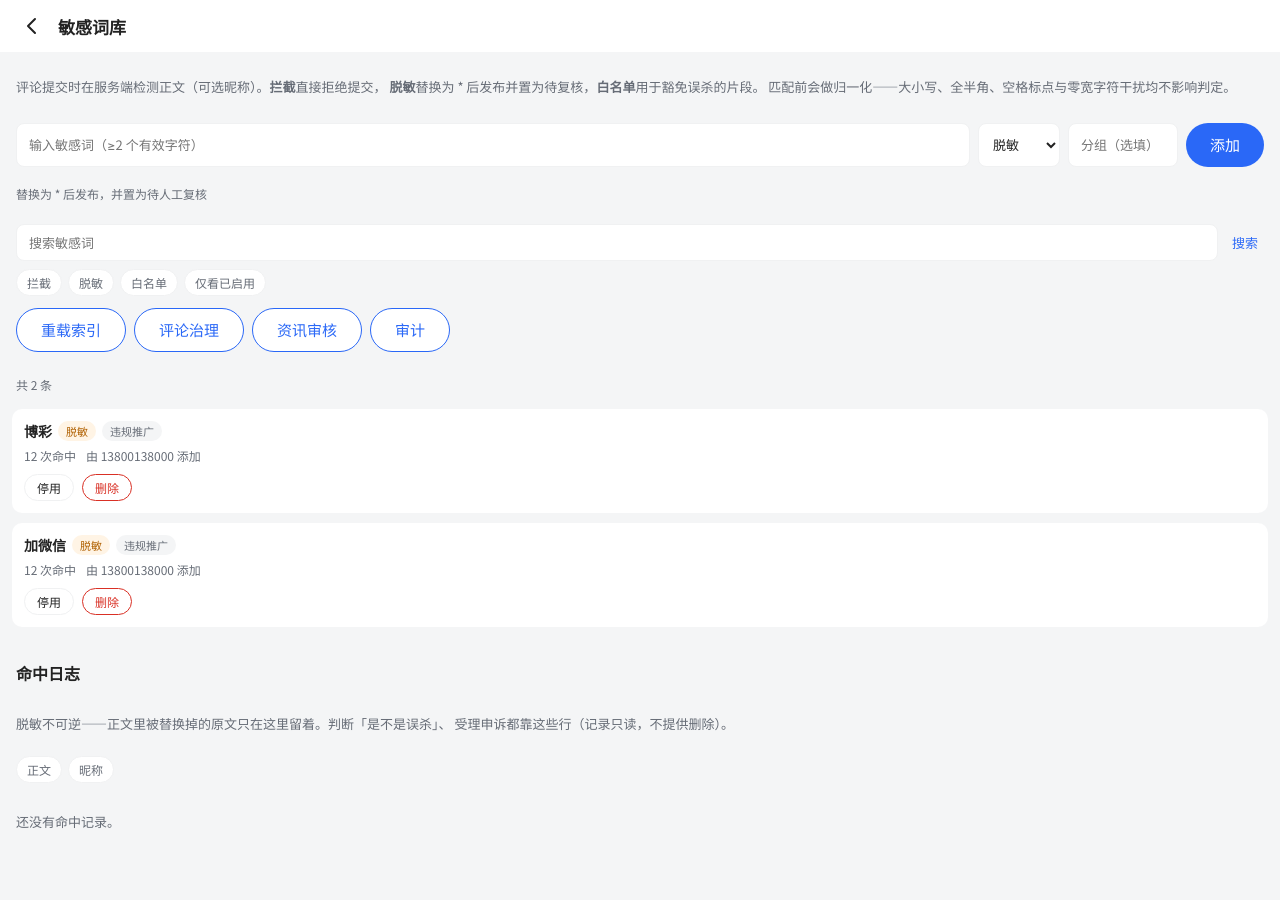
Test case: views/AdminWords 新增与维护 › 删除要二次确认，确认后从列表移除
What coordinates should you click on to do the following:
click the button "删除" below "博彩"
I would click on:
 (107, 487)
Its box is [82, 474, 132, 501].
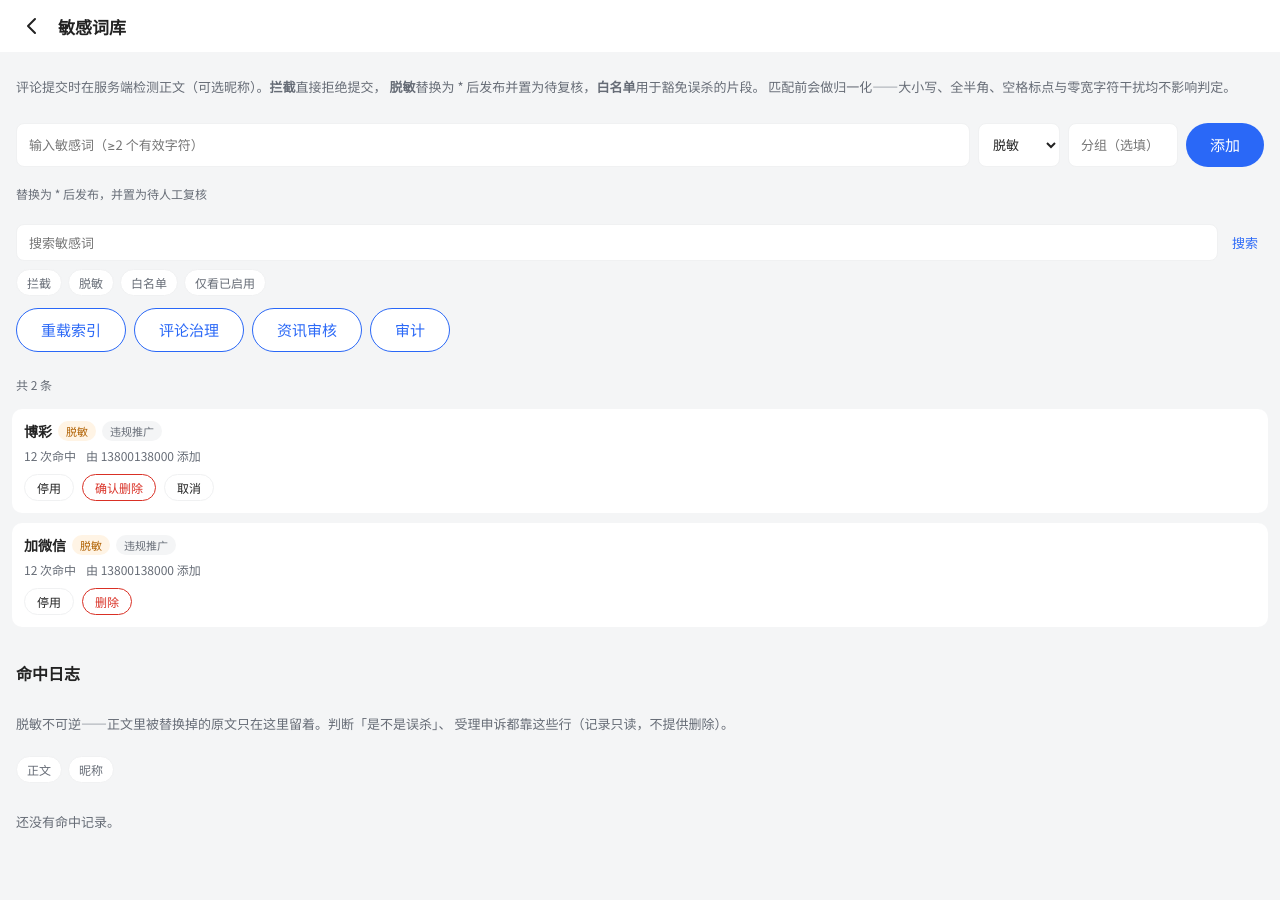
What coordinates should you click on to do the following:
click the button "确认删除"
I would click on:
 (119, 487)
Its box is [82, 474, 156, 501].
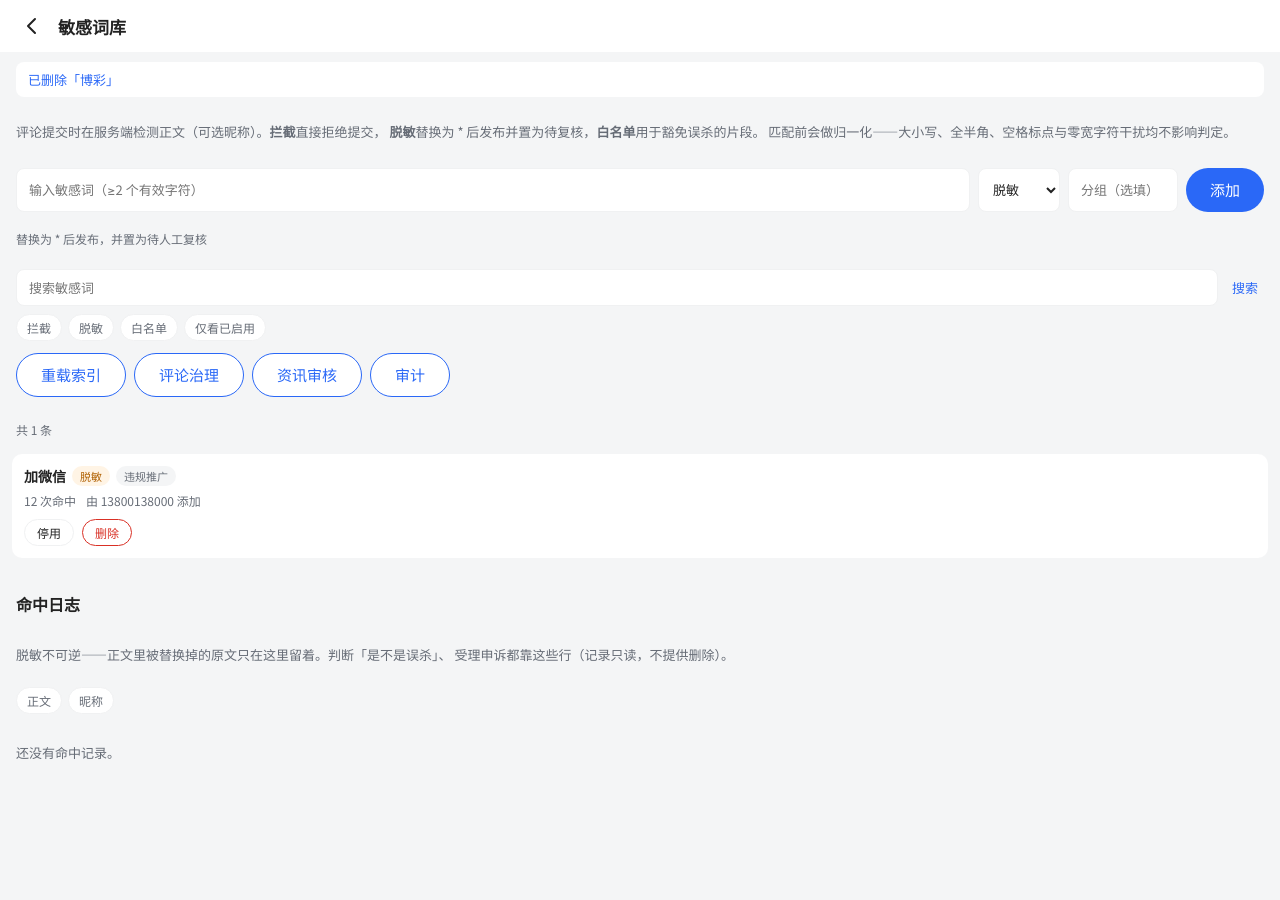
expect the text "已删除「博彩」" is shown: met, box [16, 62, 1264, 97]
expect the number of list items is 1: met, box [12, 454, 1268, 558]
expect the text "共 1 条" is shown: met, box [16, 421, 52, 438]
